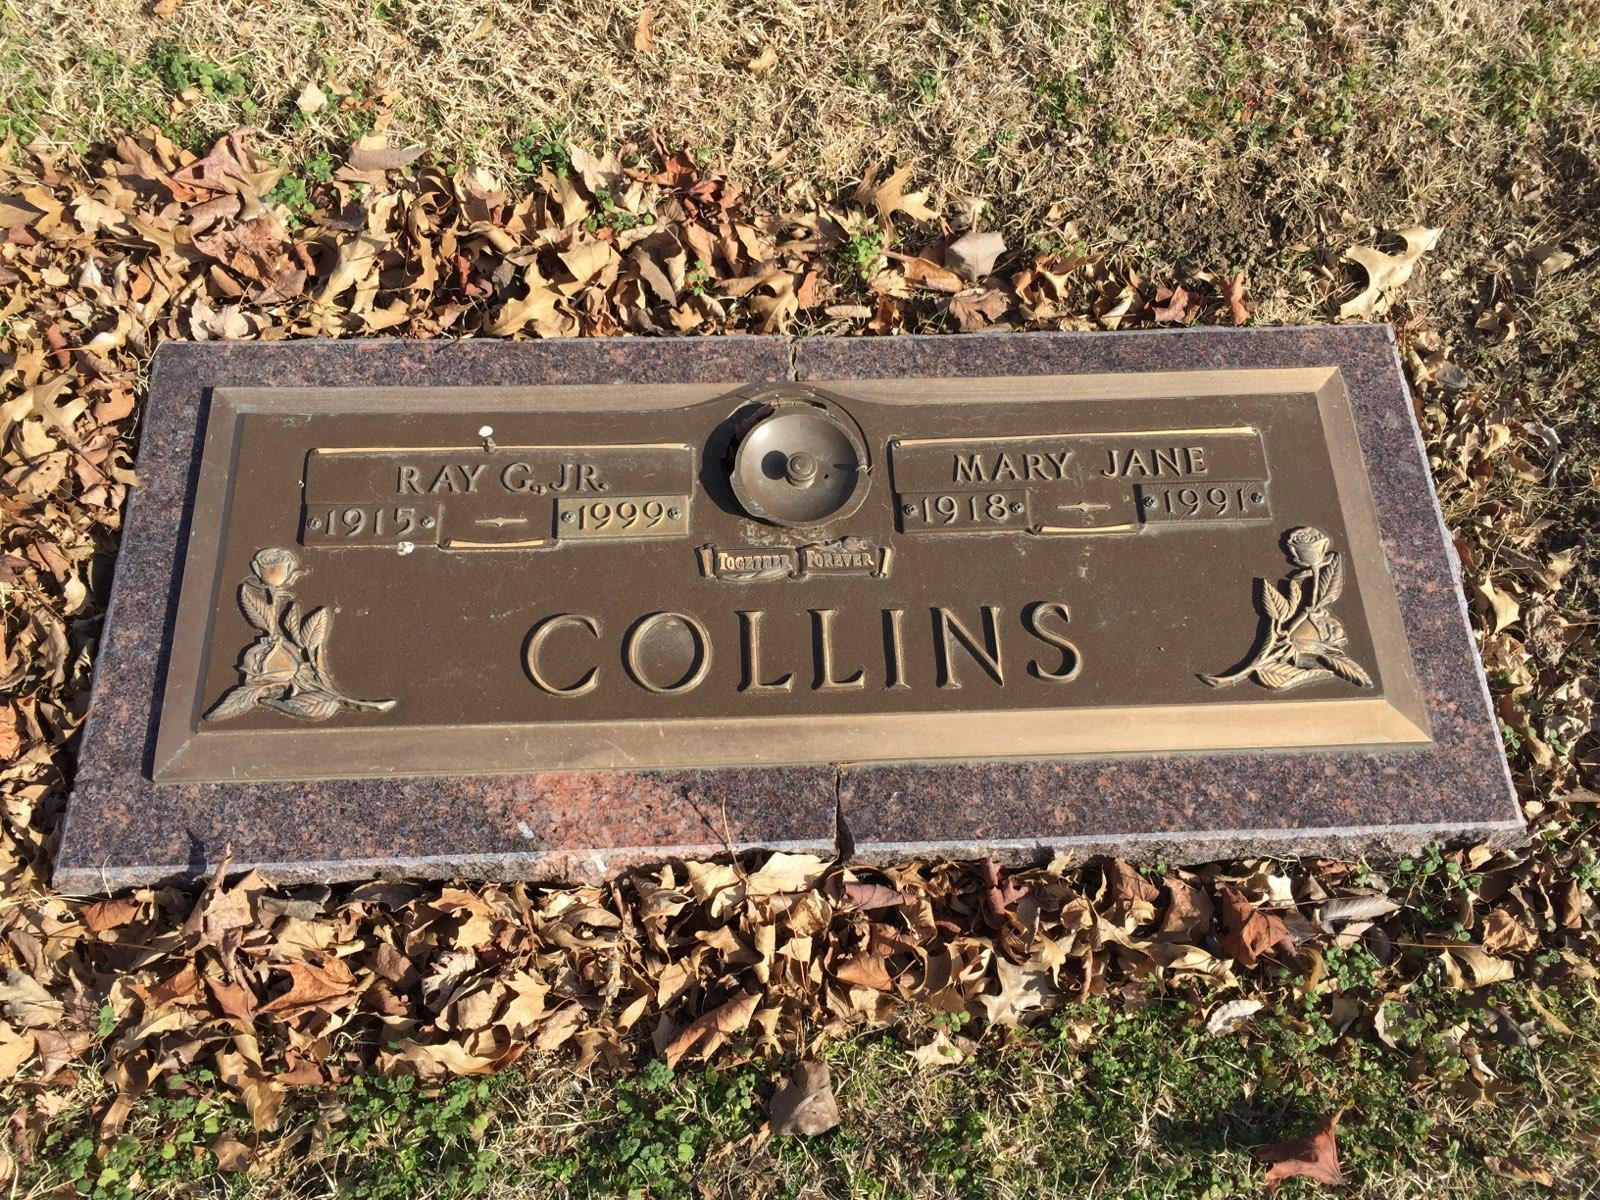flat: (47, 258, 1524, 915)
